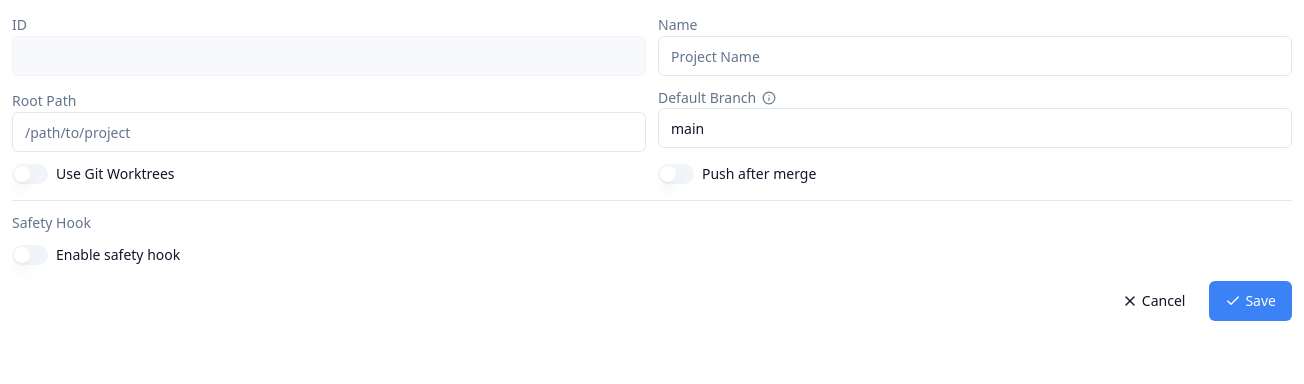
ProjectForm — worktree tooltip › shows worktree explanation tooltip on hover
The image size is (1304, 384).
Hover over the text "Use Git Worktrees": {"x": 115, "y": 174} [56,164,174,184]
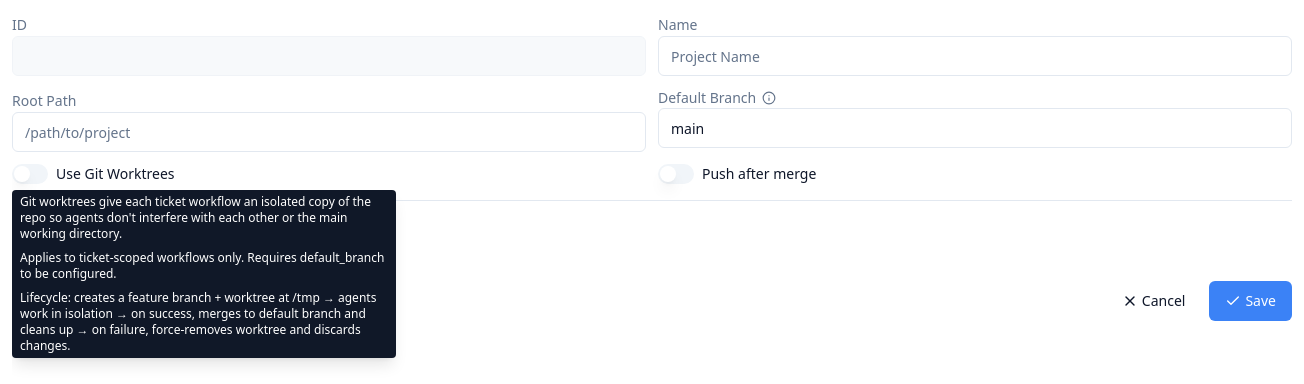
expect the tooltip shows "Git worktrees give each ticket": met, box [20,193,371,242]
expect the tooltip shows "Applies to ticket-scoped workflows only": met, box [20,249,384,282]
expect the tooltip shows "Lifecycle: creates a feature branch": met, box [20,289,376,354]
